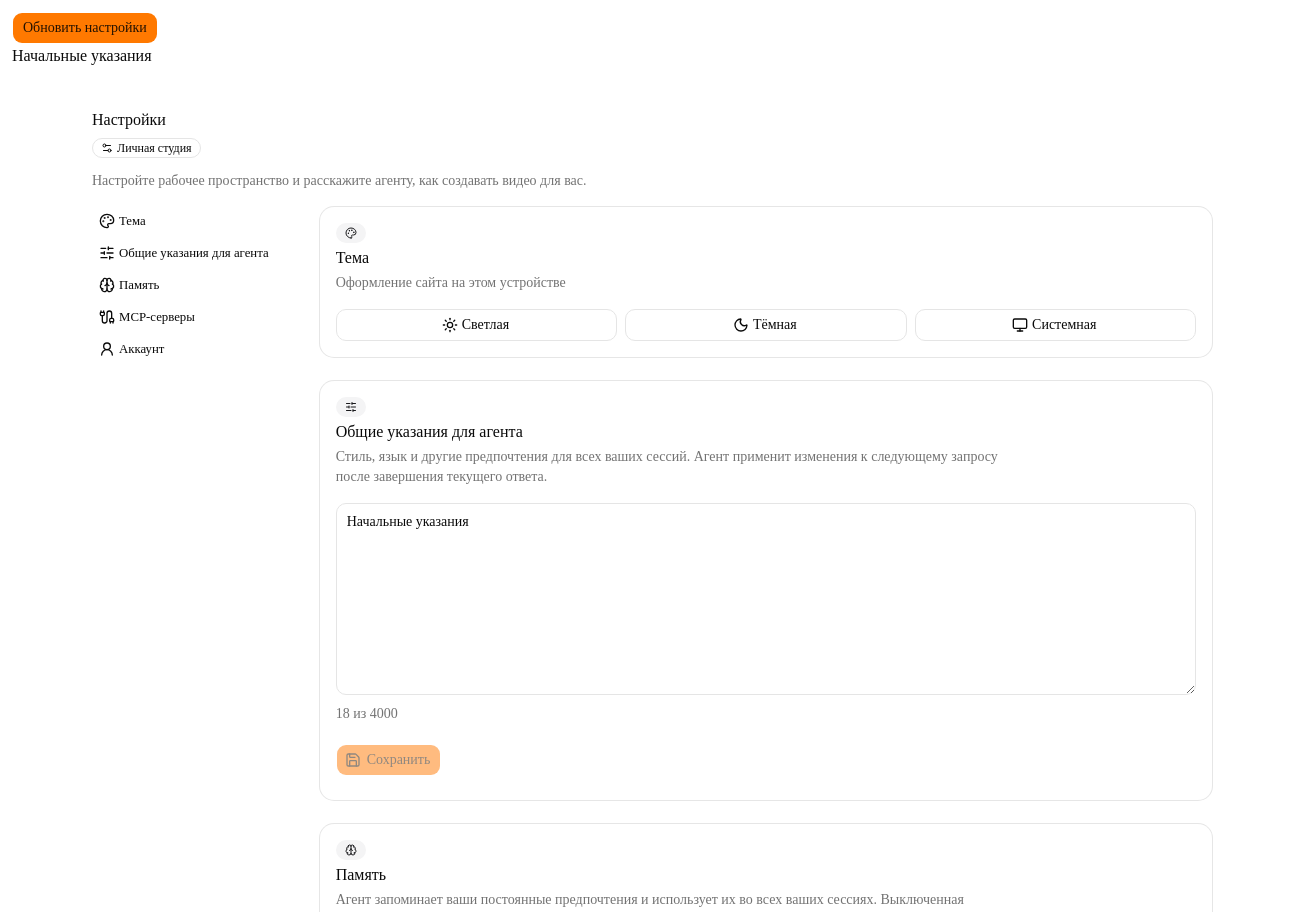
Test: server refresh не затирает dirty поле, возврат к baseline снова разрешает синхронизацию
Replace the text in the text box named "Общие указания" with "Мои несохранённые изменения" at (766, 599), box [336,503,1196,695]
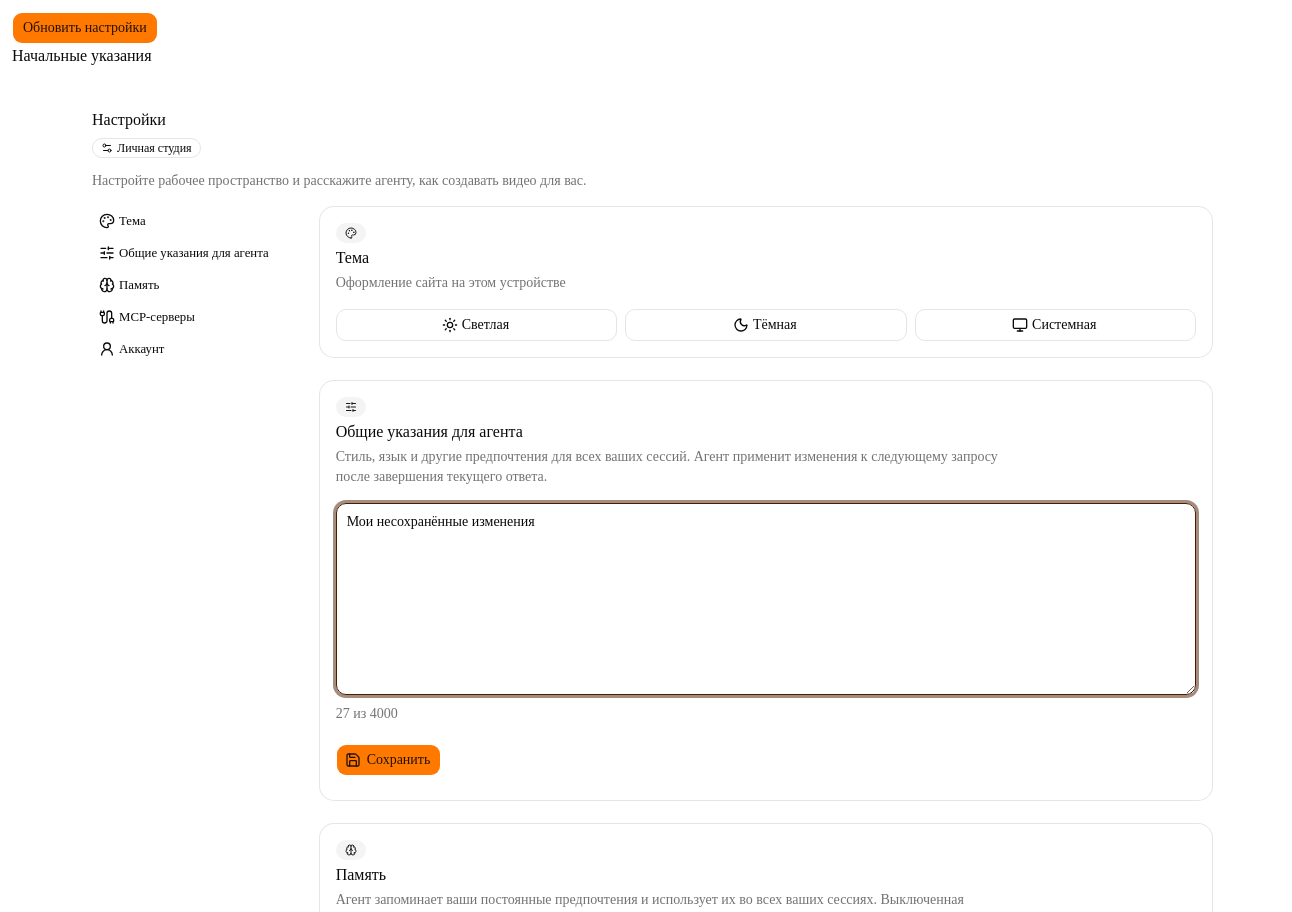
Click the button "Обновить настройки" at (85, 28), box [12,12,158,44]
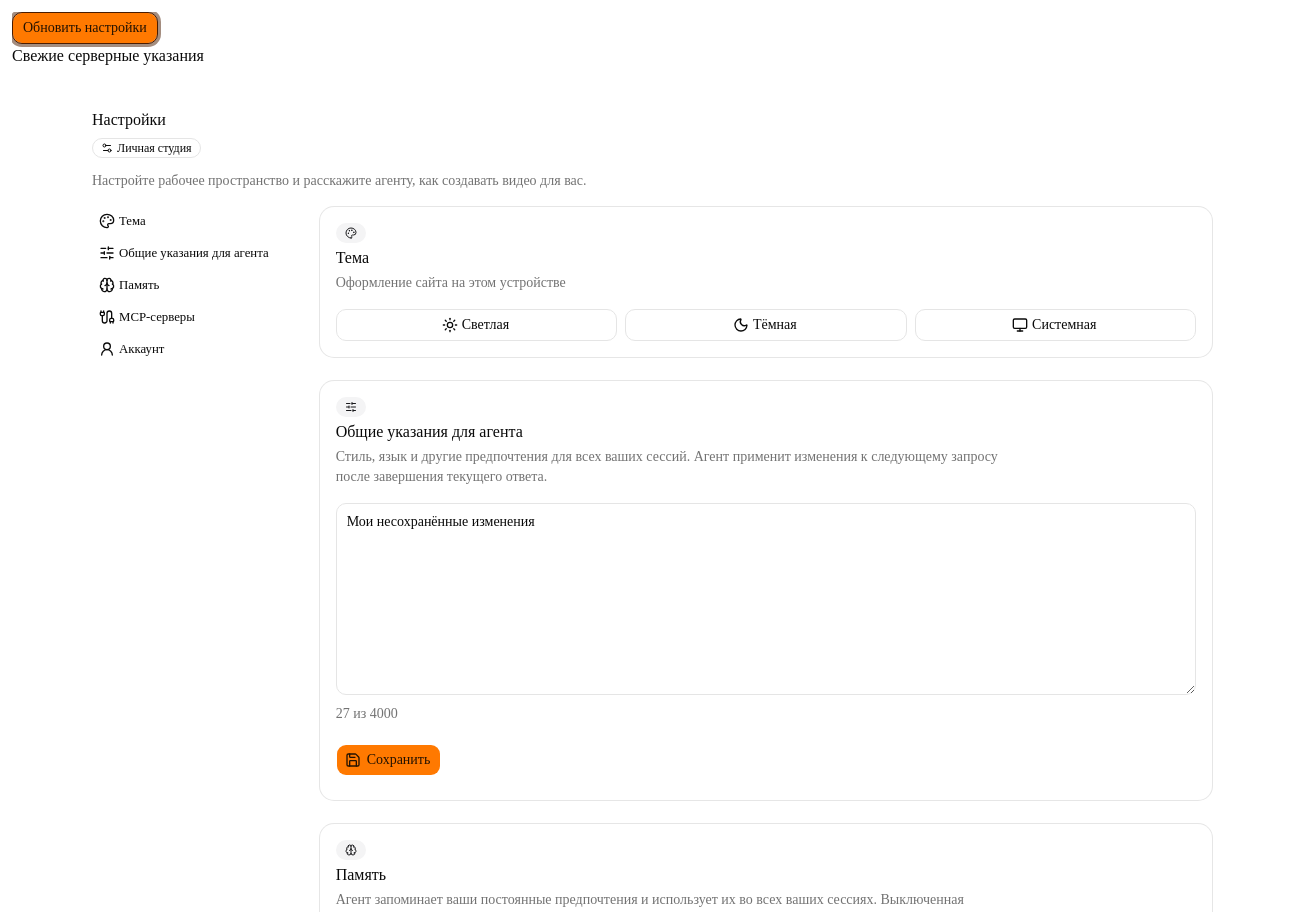
Expected: the message "Свежие серверные указания" is shown, [12,47,204,64]
// Return to the fresh server baseline, not the one from the first render.
Replace the text in the text box named "Общие указания" with "Свежие серверные указания" at (766, 599), box [336,503,1196,695]
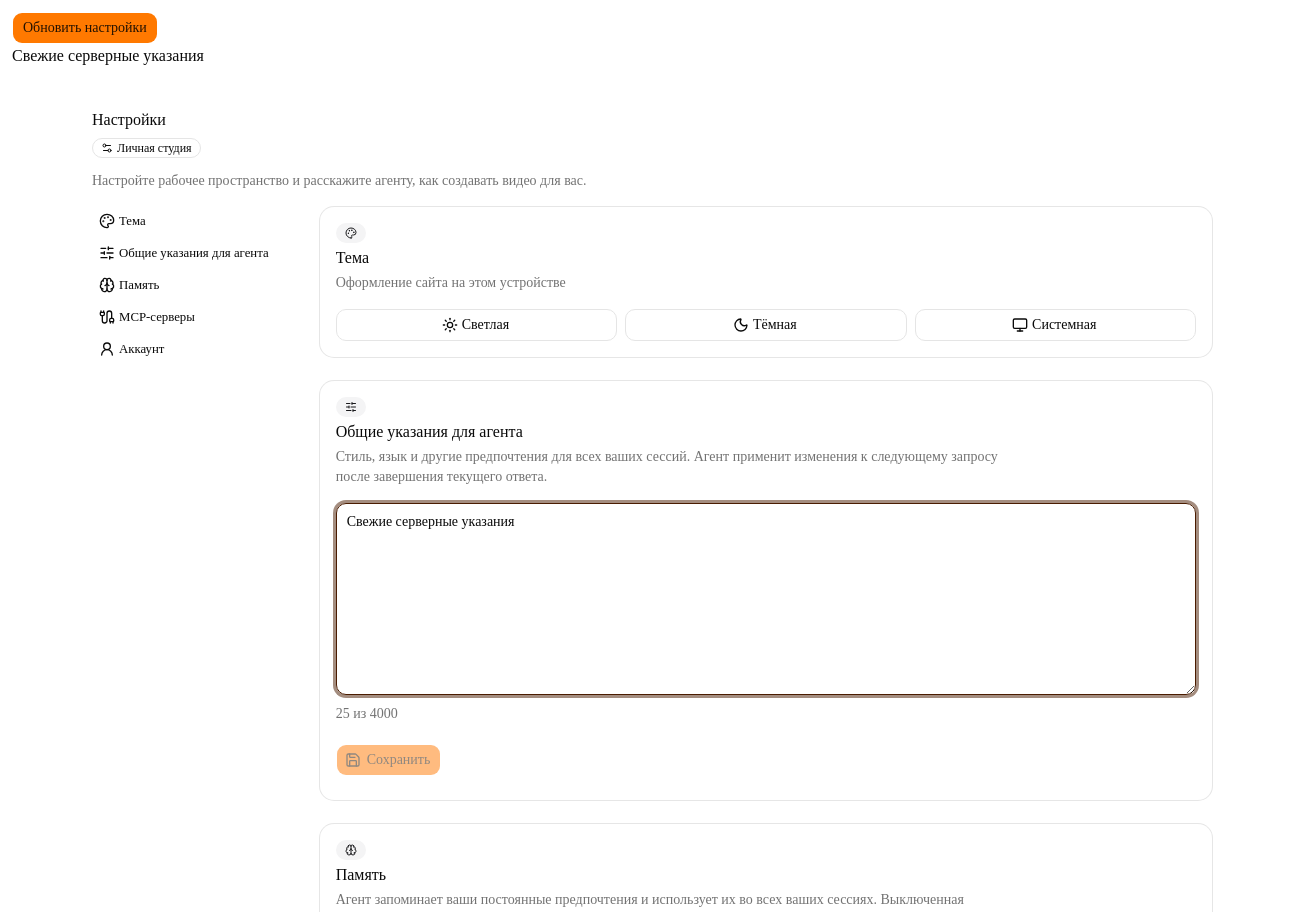
Expected: the button "Сохранить" is disabled, [336,744,441,776]
Click the button "Обновить настройки" at (85, 28), box [12,12,158,44]
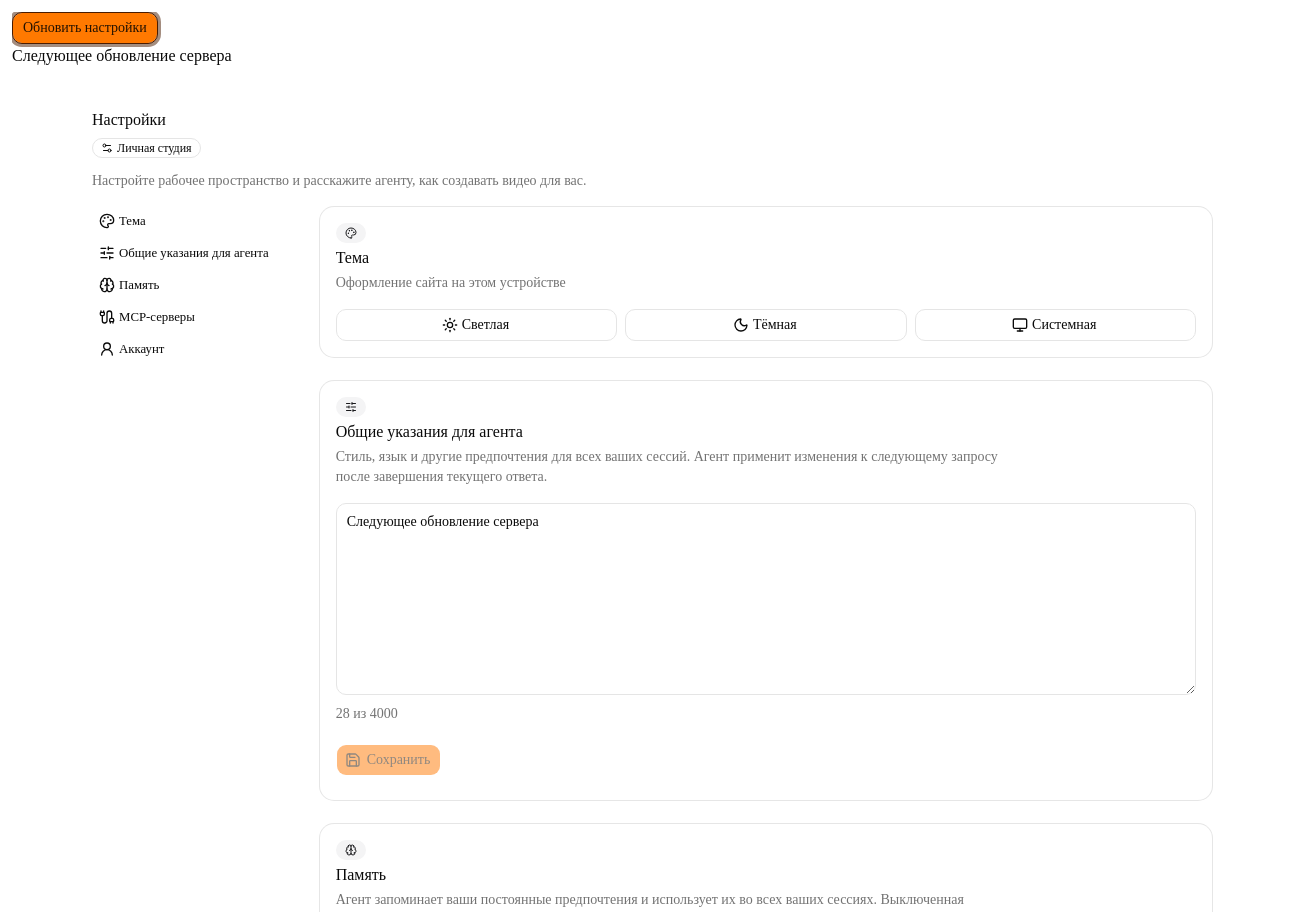
Expected: the text box named "Общие указания" holds "Следующее обновление сервера", [336,503,1196,695]
